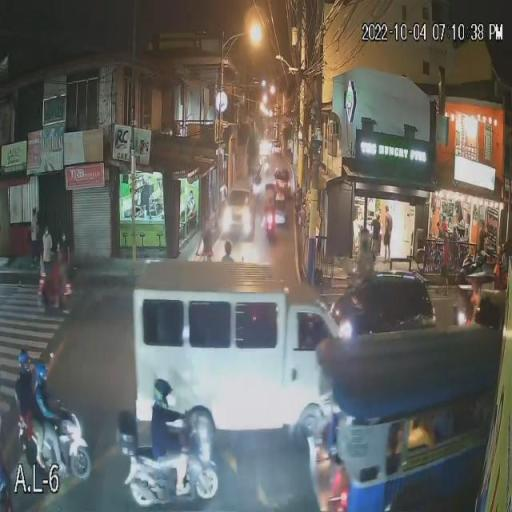helmet: (149, 373, 176, 409), (32, 353, 57, 380), (10, 349, 37, 374)
motorcycle: (114, 411, 220, 505), (21, 396, 90, 480)
rider: (144, 407, 196, 498), (33, 385, 77, 477), (10, 373, 47, 470)
